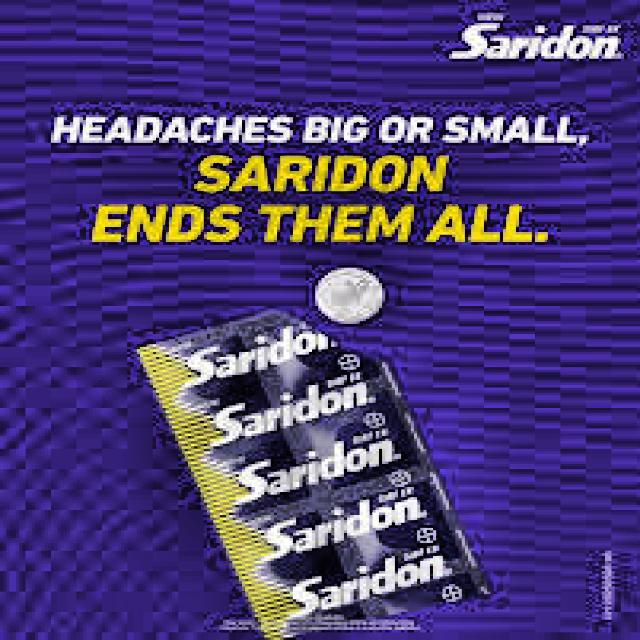Saridon: (141, 354, 483, 627)
